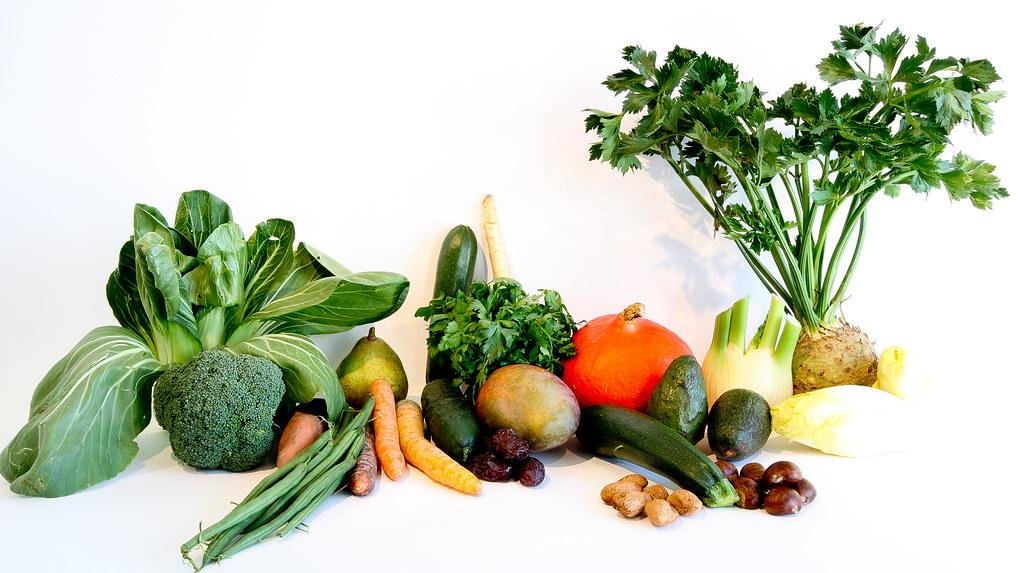beans: (153, 446, 421, 550)
broccoli: (154, 349, 290, 473)
broccolli: (138, 311, 309, 452)
carrot: (352, 317, 452, 506)
